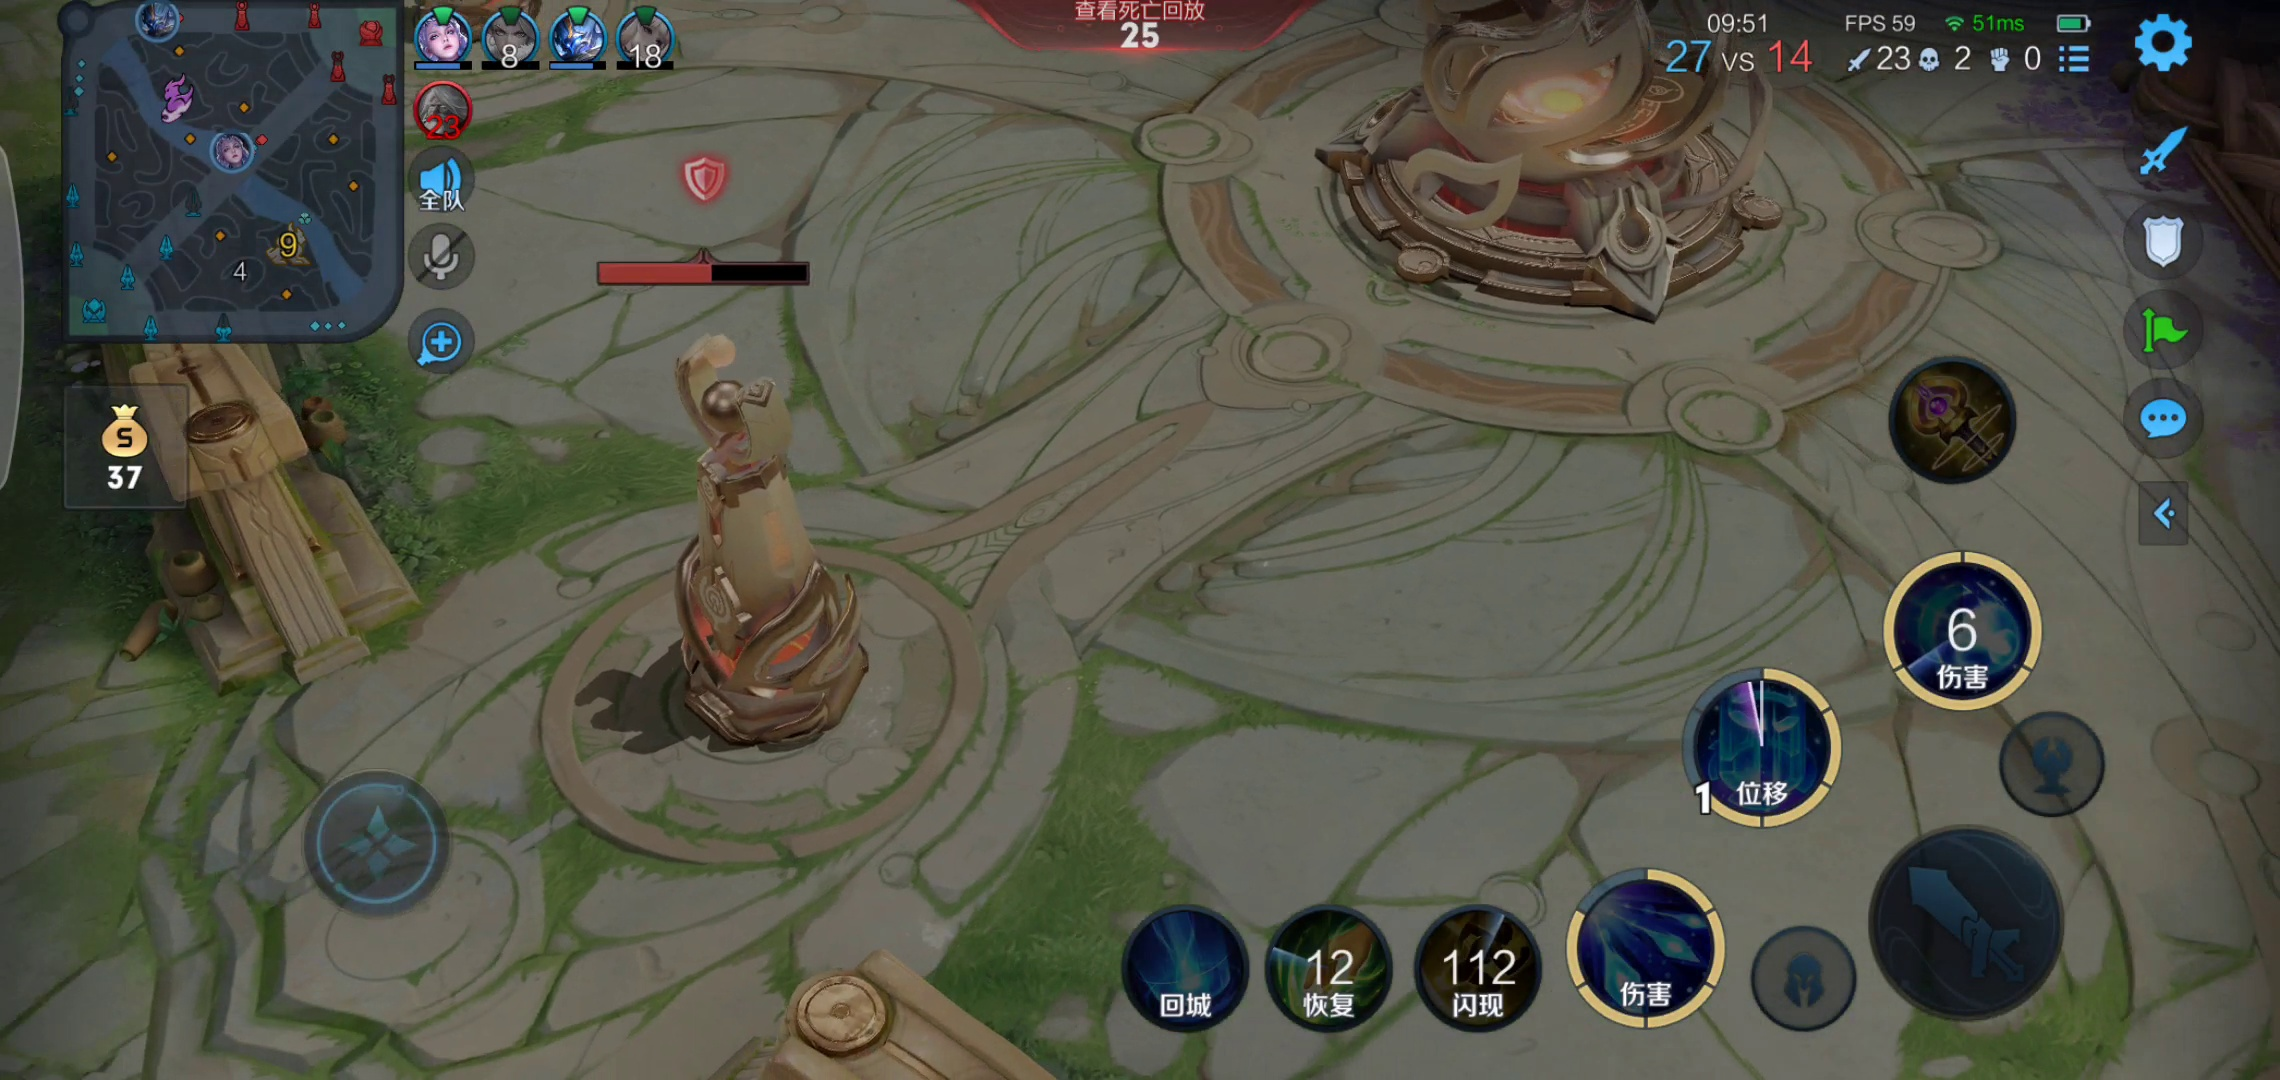crystal: (1344, 1, 1803, 331)
tower: (622, 313, 907, 760)
